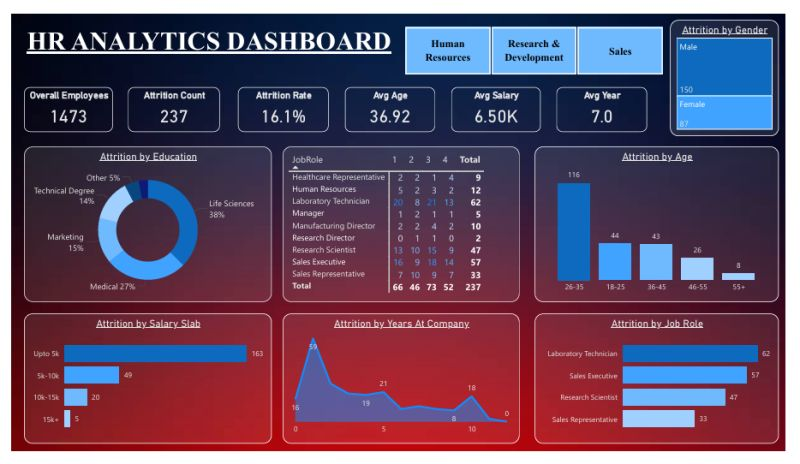

What the dashboard file says about the page in this screenshot:
{"tool":"powerbi","page":{"name":"Page 1","canvas":[1280,720],"ordinal":0},"visuals":[{"type":"card","title":"Overall Employees","fields":{"Values":["CountNonNull(HR_Analytics.EmpID)"]},"box":[19.7,119.6,146.9,74.2],"z":0},{"type":"card","title":"Attrition Count","fields":{"Values":["Sum(HR_Analytics.Attrition_Count)"]},"box":[192.3,119.6,151.4,74.2],"z":1000},{"type":"card","title":"Attrition Rate","fields":{"Values":["HR_Analytics.Attrition_Rate"]},"box":[374,119.6,149.9,74.2],"z":2000},{"type":"card","title":"Avg Age","fields":{"Values":["Avg(HR_Analytics.Age)"]},"box":[551.2,119.6,148.4,74.2],"z":3000},{"type":"card","title":"Avg Salary","fields":{"Values":["Avg(HR_Analytics.MonthlyIncome)"]},"box":[726.8,119.6,148.4,74.2],"z":4000},{"type":"card","title":"Avg Year","fields":{"Values":["Avg(HR_Analytics.YearsAtCompany)"]},"box":[901,119.6,149.9,74.2],"z":5000},{"type":"donutChart","title":"Attrition by Education","fields":{"Category":["HR_Analytics.EducationField"],"Y":["Sum(HR_Analytics.Attrition_Count)"]},"box":[19.7,218,410.3,257.4],"z":6000},{"type":"columnChart","title":"Attrition by Age","fields":{"Y":["Sum(HR_Analytics.Attrition_Count)"],"Category":["HR_Analytics.AgeGroup"]},"box":[864.6,218,404.3,257.4],"z":7000},{"type":"pivotTable","fields":{"Rows":["HR_Analytics.JobRole"],"Columns":["HR_Analytics.JobSatisfaction"],"Values":["Sum(HR_Analytics.Attrition_Count)"]},"box":[448.2,218,392.2,257.4],"z":8000},{"type":"clusteredBarChart","title":"Attrition by Salary Slab","fields":{"Category":["HR_Analytics.SalarySlab"],"Y":["Sum(HR_Analytics.Attrition_Count)"]},"box":[19.7,493.6,410.3,215],"z":9000},{"type":"clusteredBarChart","title":"Attrition by Job Role","fields":{"Y":["Sum(HR_Analytics.Attrition_Count)"],"Category":["HR_Analytics.JobRole"]},"box":[864.6,493.6,404.3,215],"z":10000},{"type":"areaChart","title":"Attrition by Years At Company","fields":{"Category":["HR_Analytics.YearsAtCompany"],"Y":["Sum(HR_Analytics.Attrition_Count)"]},"box":[448.2,493.6,392.2,215],"z":11000},{"type":"treemap","title":"Attrition by Gender","fields":{"Values":["Sum(HR_Analytics.Attrition_Count)"],"Group":["HR_Analytics.Gender"]},"box":[1088.7,9.1,180.2,192.3],"z":12000},{"type":"slicer","title":"Department","fields":{"Values":["HR_Analytics.Department"]},"box":[625.4,13.6,475.5,92.4],"z":13000},{"type":"textbox","box":[19.7,13.6,623.9,66.6],"z":14000}]}

Visuals, with their boxes in screenshot pixels (x1, y1, x2, y2):
"Overall Employees" card: region(10, 78, 101, 124)
"Attrition Count" card: region(116, 78, 210, 124)
"Attrition Rate" card: region(228, 78, 321, 124)
"Avg Age" card: region(338, 78, 429, 124)
"Avg Salary" card: region(446, 78, 537, 124)
"Avg Year" card: region(553, 78, 646, 124)
"Attrition by Education" donutChart: region(10, 139, 263, 297)
"Attrition by Age" columnChart: region(531, 139, 780, 297)
pivotTable - HR_Analytics.JobRole x HR_Analytics.JobSatisfaction: region(274, 139, 516, 297)
"Attrition by Salary Slab" clusteredBarChart: region(10, 308, 263, 441)
"Attrition by Job Role" clusteredBarChart: region(531, 308, 780, 441)
"Attrition by Years At Company" areaChart: region(274, 308, 516, 441)
"Attrition by Gender" treemap: region(669, 10, 780, 128)
"Department" slicer: region(383, 13, 676, 70)
textbox: region(10, 13, 395, 54)
